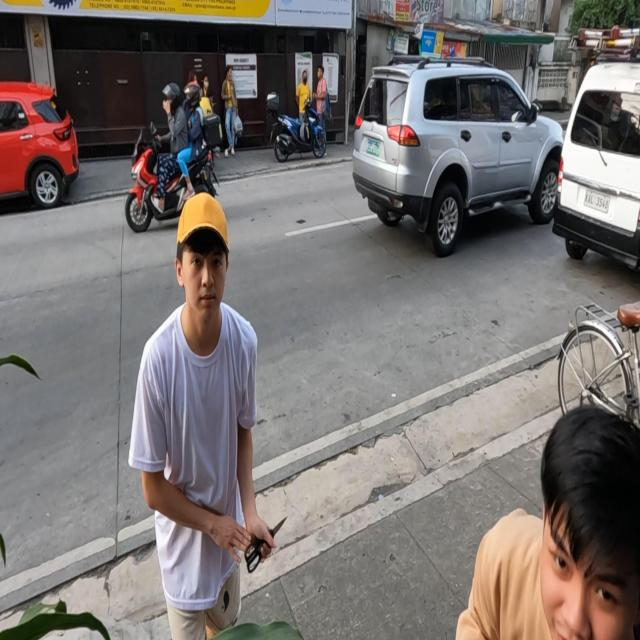scissor: (246, 514, 291, 574)
